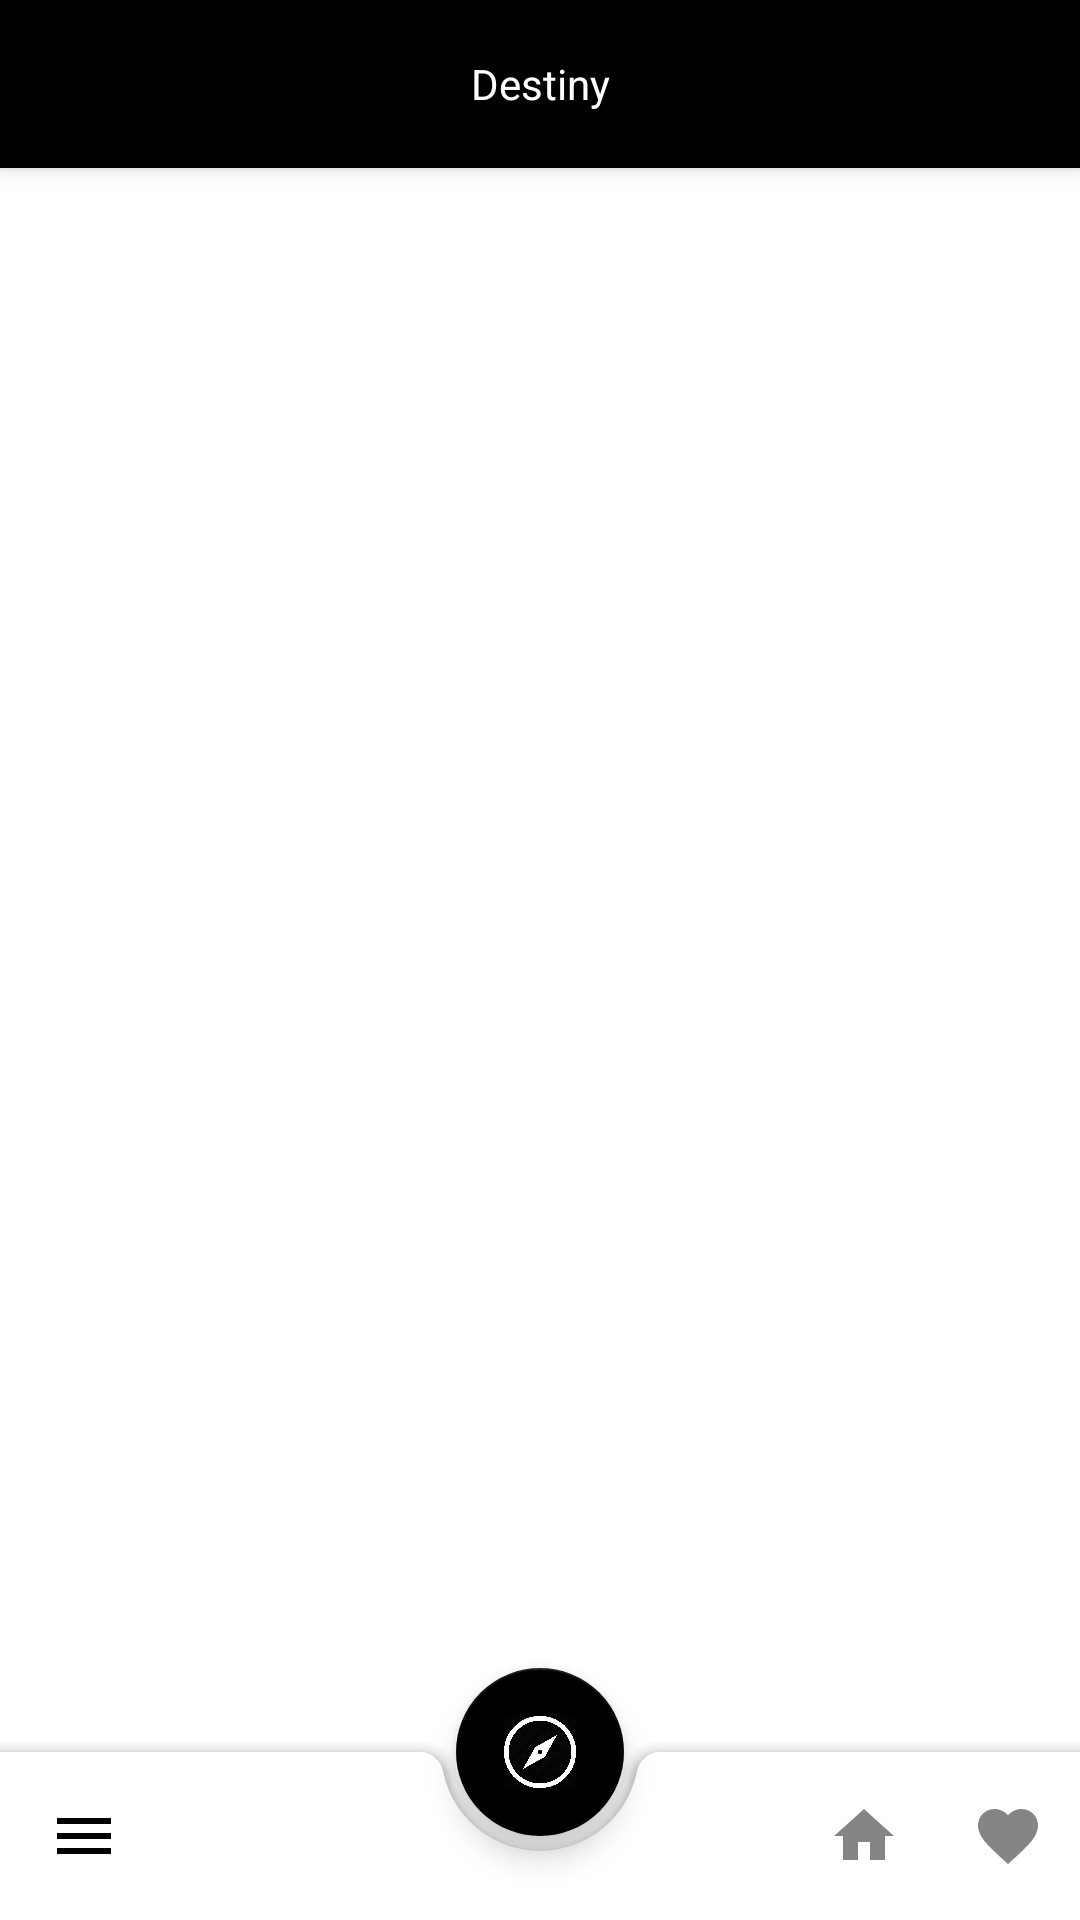

Where to tap for icons on this 1080*1920 app screen, as (x,y):
discover: (540,1752)
